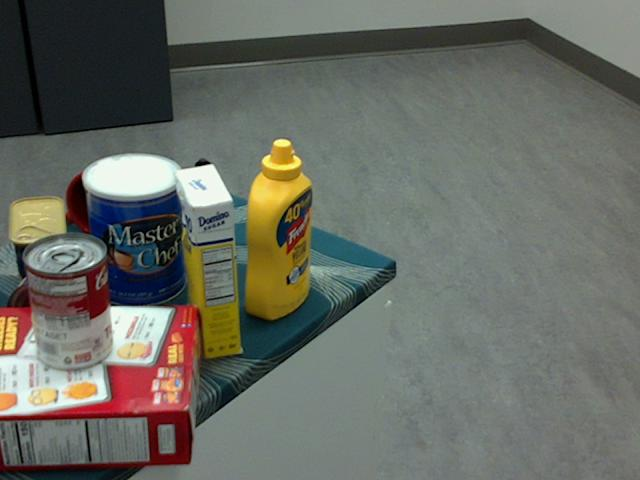cracker_box: (0, 304, 198, 468)
large_marker: (195, 157, 214, 251)
master_chef_can: (80, 153, 184, 309)
mug: (64, 154, 156, 241)
mustard_bottle: (243, 137, 312, 319)
potted_meat_can: (8, 194, 71, 304)
sugar_box: (175, 162, 240, 360)
tomato_soup_can: (22, 233, 111, 371)
tuna_fish_can: (6, 266, 100, 354)
